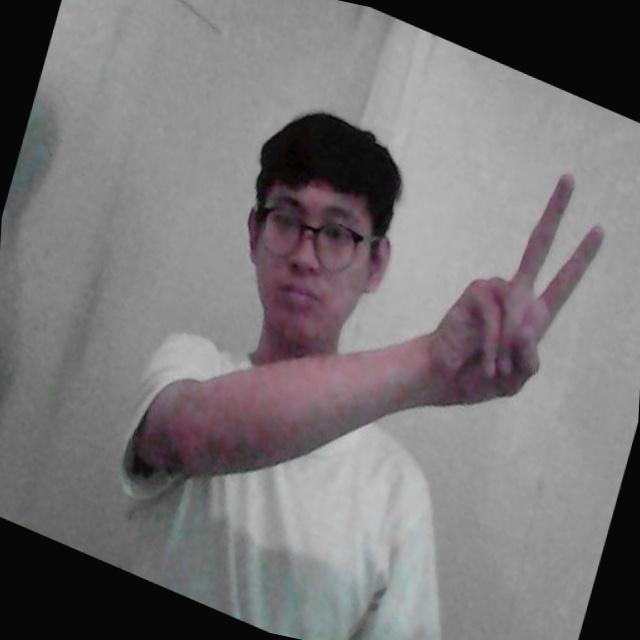V: (416, 143, 624, 474)
